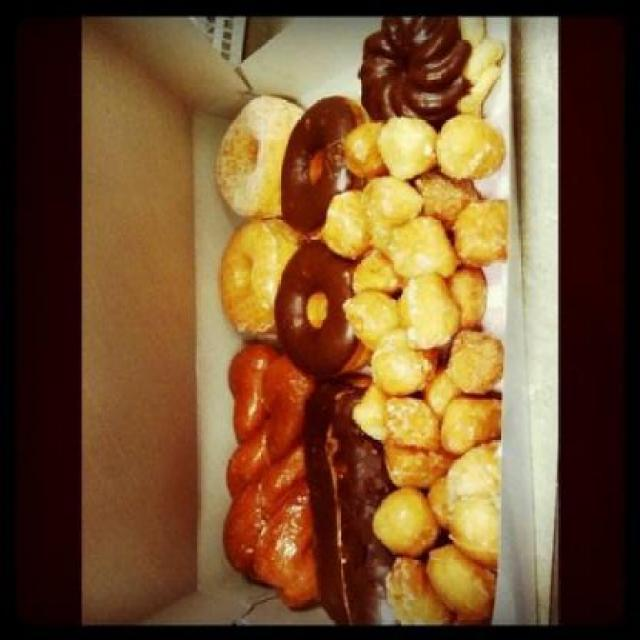Donuts: (210, 83, 362, 380)
